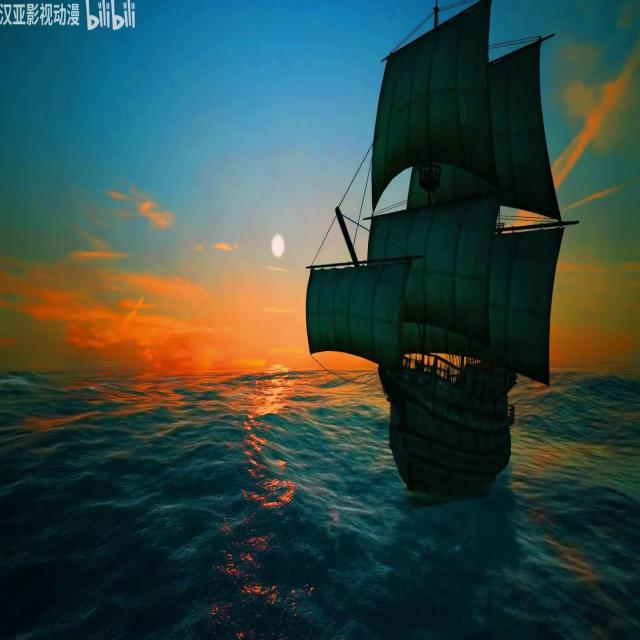sailboat: (296, 0, 561, 491)
